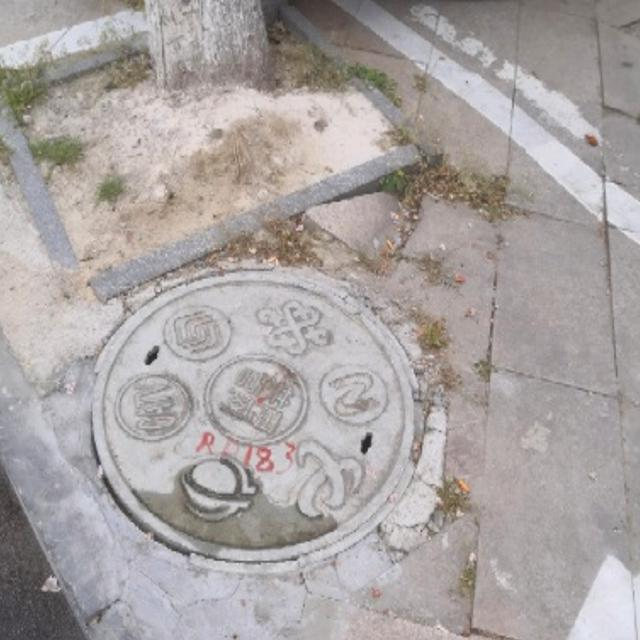good: (92, 274, 427, 568)
